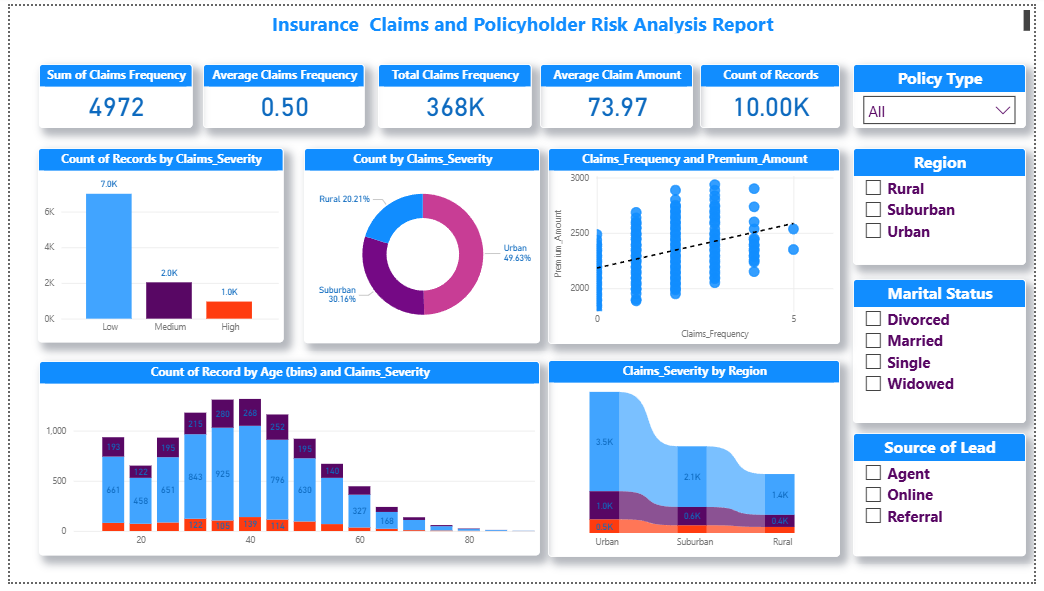

Layout of this report page (visuals, bound fields, positions):
{"tool":"powerbi","page":{"name":"Page 1","canvas":[1280,720],"ordinal":0},"visuals":[{"type":"textbox","box":[9.7,0,1270.3,38.9],"z":0},{"type":"card","title":"Sum of Claims Frequency","fields":{"Values":["Sum(synthetic_insurance_data.Claims_Frequency)"]},"box":[36,72,191.6,79.8],"z":1000},{"type":"card","title":"Average Claims Frequency","fields":{"Values":["Avg(synthetic_insurance_data.Claims_Frequency)"]},"box":[241.2,72,202.3,79.8],"z":2000},{"type":"card","title":"Total Claims Frequency","fields":{"Values":["Sum(synthetic_insurance_data.Claims_Adjustment)"]},"box":[460.1,72,191.6,79.8],"z":3000},{"type":"columnChart","title":"Count of Records by Claims_Severity","fields":{"Y":["Count(synthetic_insurance_data.Index.1)"],"Category":["synthetic_insurance_data.Claims_Severity"]},"box":[35.6,177.8,306.7,243.3],"z":4000},{"type":"columnChart","title":"Count of Record by Age (bins) and Claims_Severity","fields":{"Y":["Count(synthetic_insurance_data.Index.1)1"],"Category":["synthetic_insurance_data.Age (bins)"],"Series":["synthetic_insurance_data.Claims_Severity"]},"box":[36.2,443.8,626.2,242.5],"z":5000},{"type":"donutChart","title":"Count by Claims_Severity","fields":{"Category":["synthetic_insurance_data.Region"],"Y":["Sum(synthetic_insurance_data.Index.1)"]},"box":[367.5,177.5,295,243.8],"z":6000},{"type":"ribbonChart","title":"Claims_Severity by Region","fields":{"Category":["synthetic_insurance_data.Region"],"Y":["CountNonNull(synthetic_insurance_data.Index.1)"],"Series":["synthetic_insurance_data.Claims_Severity"]},"box":[672.5,442.5,365,246.2],"z":7000},{"type":"card","title":"Average Claim Amount","fields":{"Values":["synthetic_insurance_data.Average Claim Amount"]},"box":[662.5,72.5,191.2,80],"z":8000},{"type":"scatterChart","fields":{"Y":["synthetic_insurance_data.Premium_Amount"],"X":["synthetic_insurance_data.Claims_Frequency"]},"box":[672.5,177.5,365,245],"z":9000},{"type":"card","title":"Count of Records","fields":{"Values":["Count(synthetic_insurance_data.Index.1)"]},"box":[862.5,72.5,175,80],"z":10000},{"type":"slicer","title":"Region","fields":{"Values":["synthetic_insurance_data.Region"]},"box":[1054.3,177.1,215.7,145.7],"z":11000},{"type":"slicer","title":"Policy Type","fields":{"Values":["synthetic_insurance_data.Policy_Type"]},"box":[1054.3,72.9,215.7,80],"z":12000},{"type":"slicer","title":"Marital Status","fields":{"Values":["synthetic_insurance_data.Marital_Status"]},"box":[1054.3,341.4,215.7,180],"z":13000},{"type":"slicer","title":"Source of Lead","fields":{"Values":["synthetic_insurance_data.Source_of_Lead"]},"box":[1054.3,534.3,215.7,154.3],"z":14000}]}

Visuals, with their boxes in screenshot pixels (x1, y1, x2, y2), scaled from the page's 1280x720 canvas onto the 1044x591 screenshot:
textbox: [8,0,1043,32]
"Sum of Claims Frequency" card: [29,59,186,125]
"Average Claims Frequency" card: [197,59,362,125]
"Total Claims Frequency" card: [375,59,532,125]
"Count of Records by Claims_Severity" columnChart: [29,146,279,346]
"Count of Record by Age (bins) and Claims_Severity" columnChart: [30,364,540,563]
"Count by Claims_Severity" donutChart: [300,146,540,346]
"Claims_Severity by Region" ribbonChart: [549,363,846,565]
"Average Claim Amount" card: [540,60,696,125]
scatterChart - synthetic_insurance_data.Premium_Amount x synthetic_insurance_data.Claims_Frequency: [549,146,846,347]
"Count of Records" card: [703,60,846,125]
"Region" slicer: [860,145,1036,265]
"Policy Type" slicer: [860,60,1036,126]
"Marital Status" slicer: [860,280,1036,428]
"Source of Lead" slicer: [860,439,1036,565]
